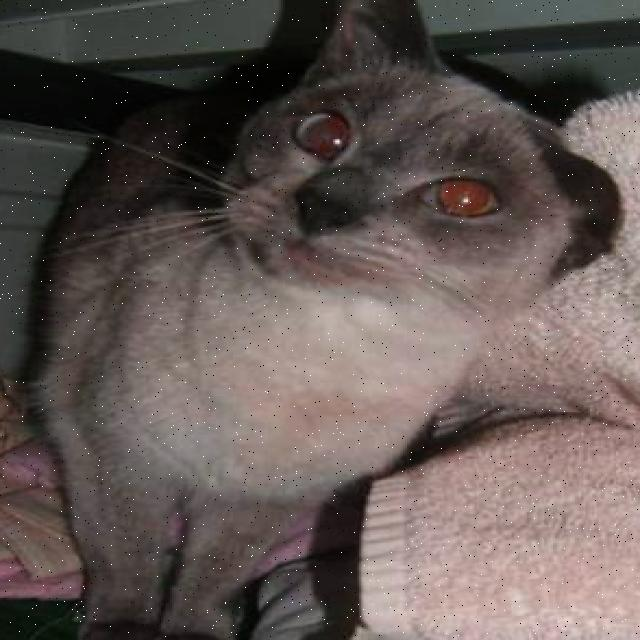Cat: (207, 0, 640, 375)
